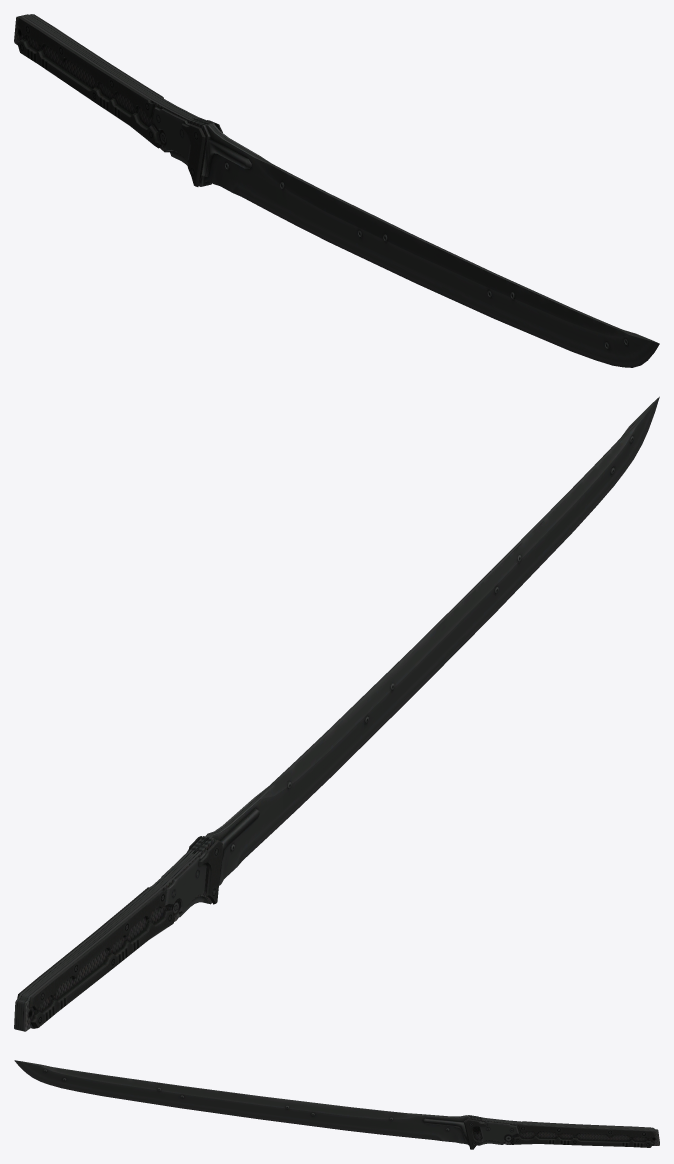
File: HFBladeEevee2 1.fbx
3 views of the same model, one above another, from view 1: azimuth 30°, elevation 25°; view 2: azimuth 150°, elevation 25°; view 3: azimuth 270°, elevation 25° (orthographic). The views are drawn at different scales.
Parts seen in each view (by area): view 1: Blade; view 2: Blade; view 3: Blade.
Boxes of the visible parts, x1=… form: Blade: x1=14, y1=14, x2=659, y2=367; Blade: x1=14, y1=396, x2=659, y2=1031; Blade: x1=14, y1=1060, x2=659, y2=1149.
Bounding box in the file's own units: 4.45 × 34.6 × 231.
